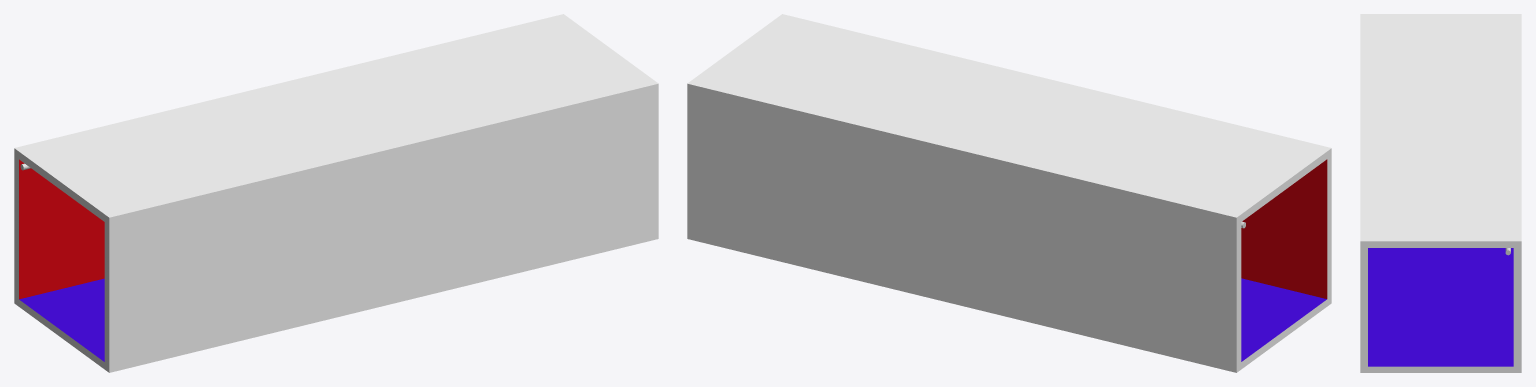
Rendered from HallRework.fbx.
3 views of the same model, side by side, from view 1: azimuth 30°, elevation 25°; view 2: azimuth 150°, elevation 25°; view 3: azimuth 270°, elevation 25° (orthographic). The views are drawn at different scales.
Parts seen in each view (by area): view 1: Hall.002; view 2: Hall.002; view 3: Hall.002.
Boxes of the visible parts, x1,y1,x2,y2 form: Hall.002: (14,14,658,372); Hall.002: (687,14,1331,372); Hall.002: (1360,14,1521,372).
Size of the model in its own units: 2000 by 540 by 600.
